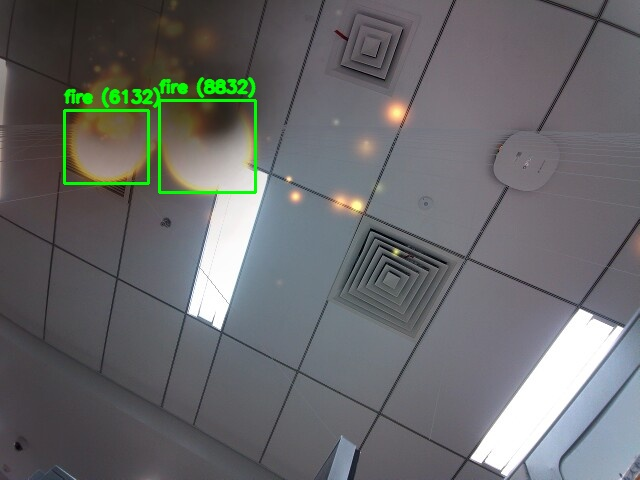fire: (159, 100, 255, 192), (64, 110, 148, 183)
